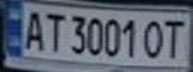0: (84, 14, 106, 57), (103, 15, 124, 58)
1: (121, 16, 142, 58)
3: (66, 11, 87, 55)
A: (18, 7, 48, 52)
O: (139, 16, 169, 60)
T: (160, 16, 190, 60), (42, 8, 66, 53)
